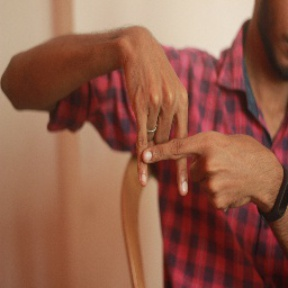H: (110, 86, 218, 205)
